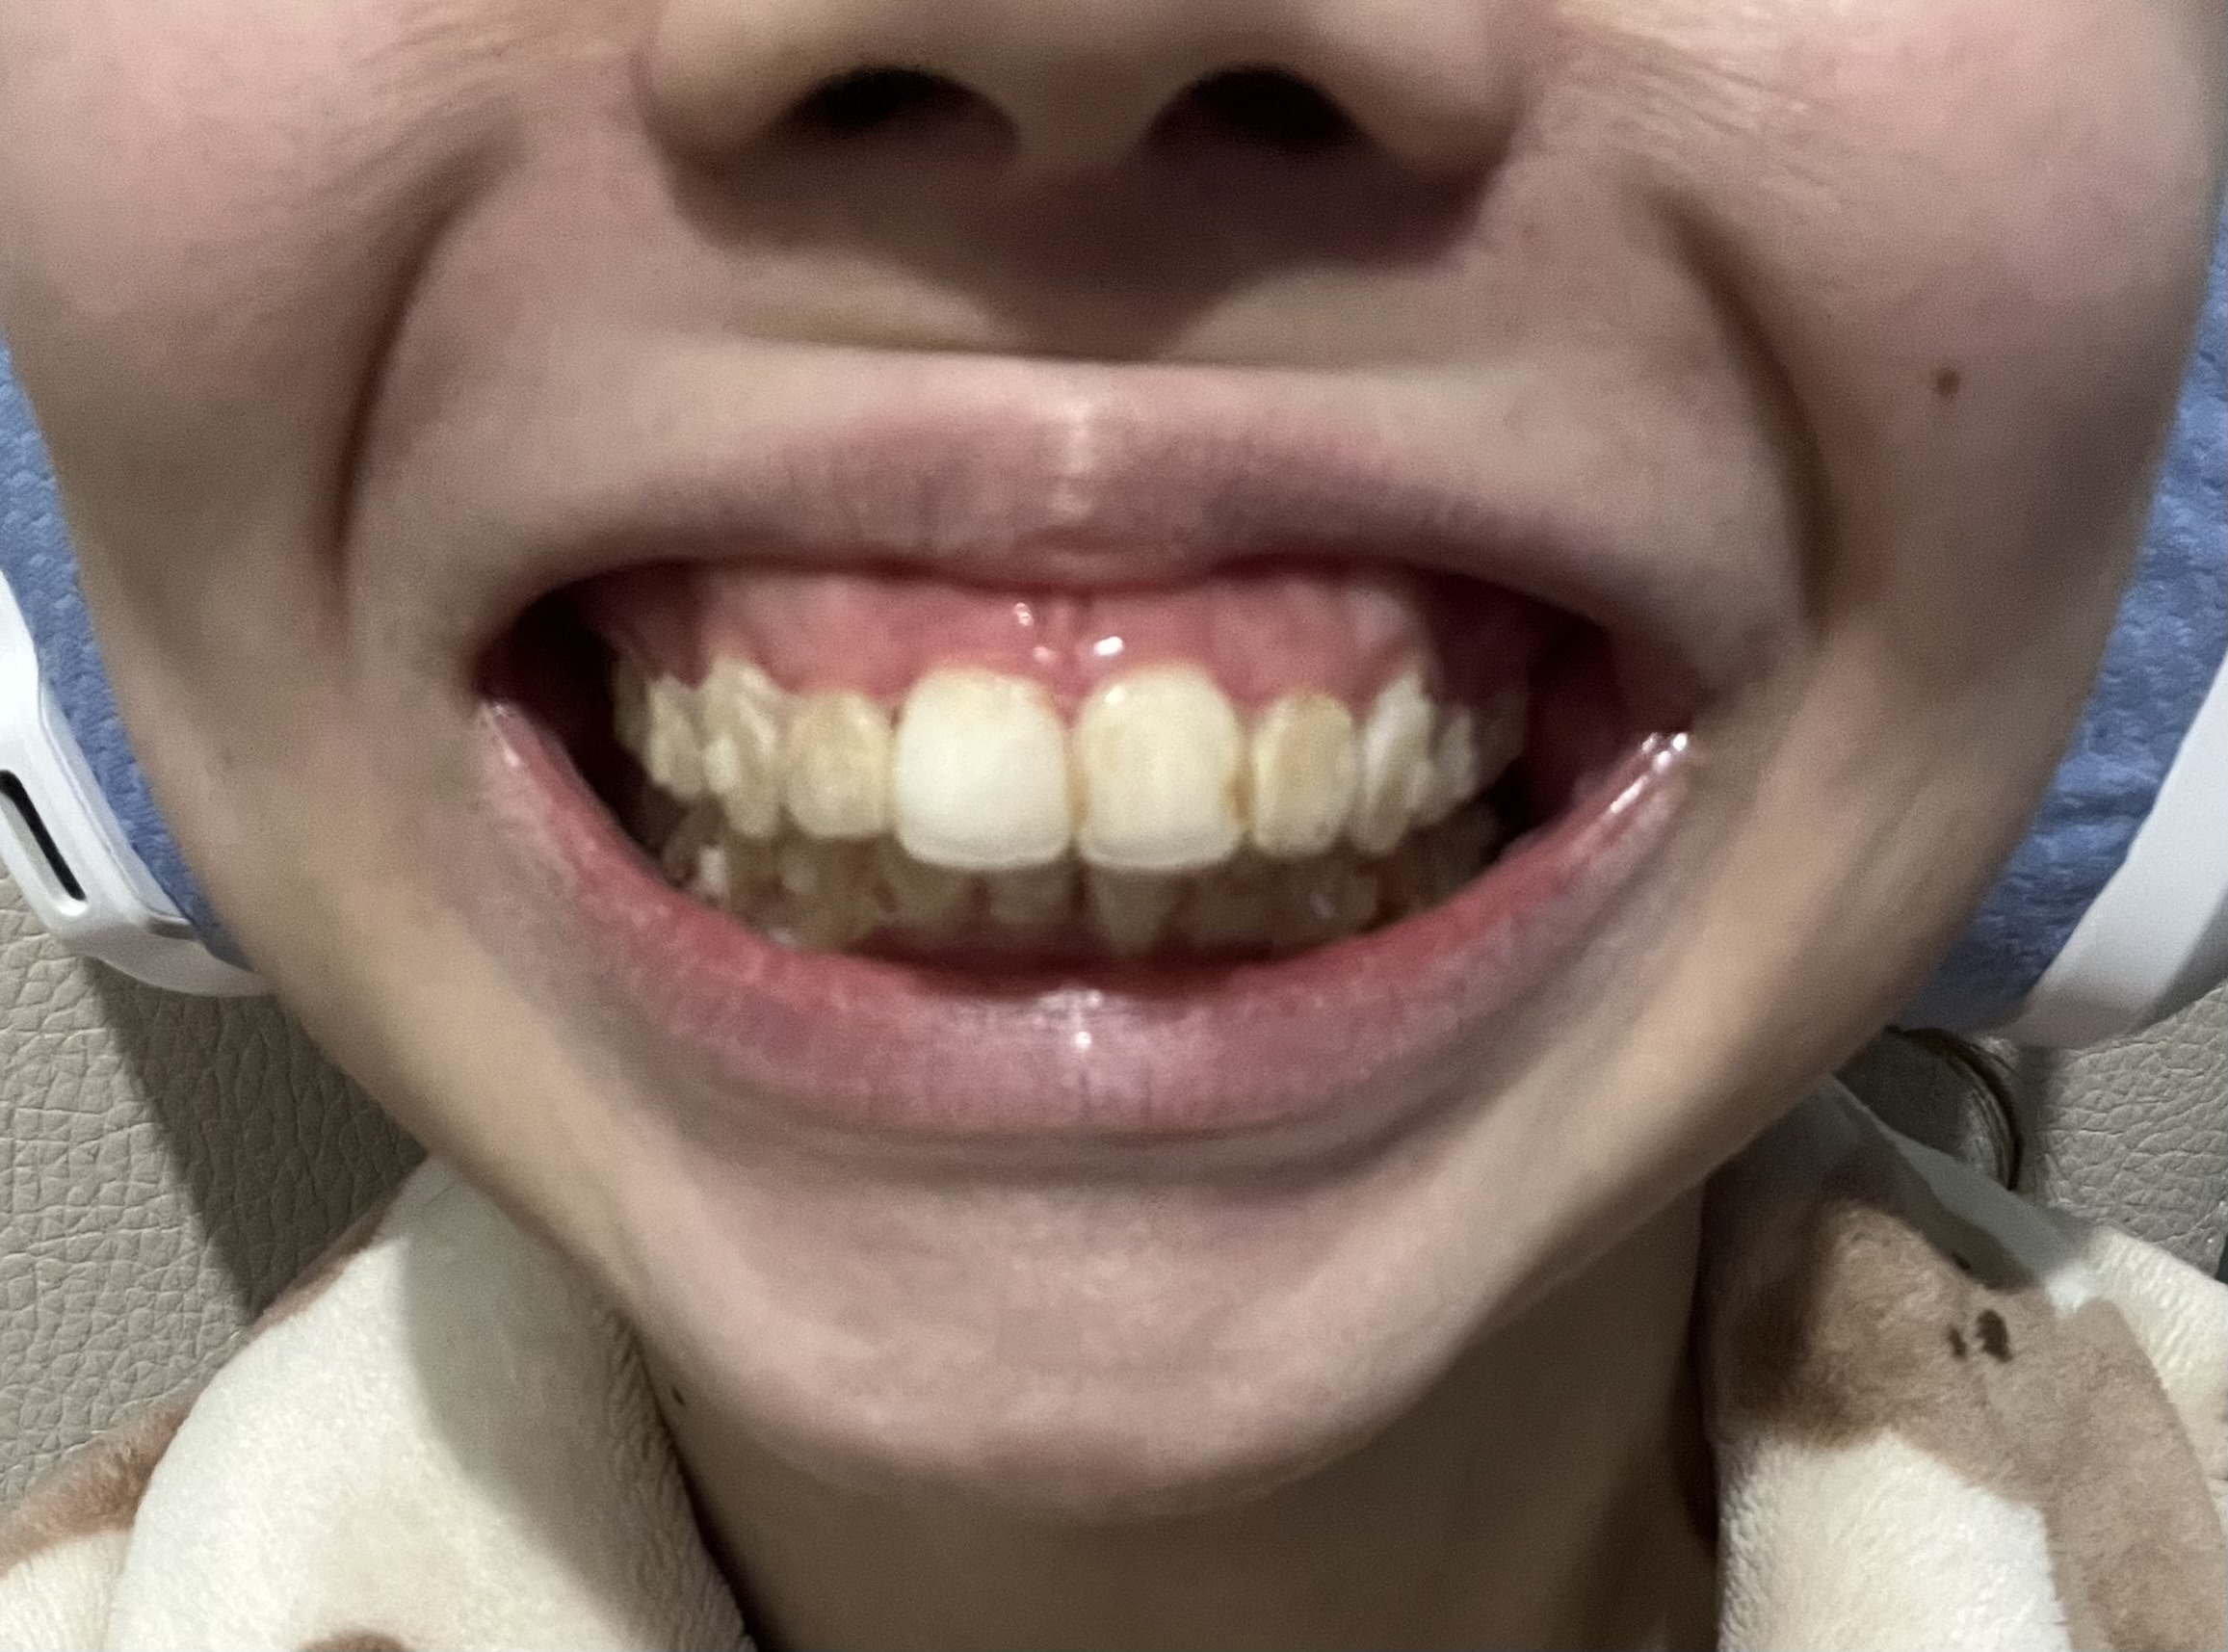teeth: (1097, 677, 1237, 861), (920, 687, 1050, 850), (1360, 689, 1442, 855), (1258, 713, 1355, 850), (774, 710, 883, 826), (708, 680, 781, 829)
